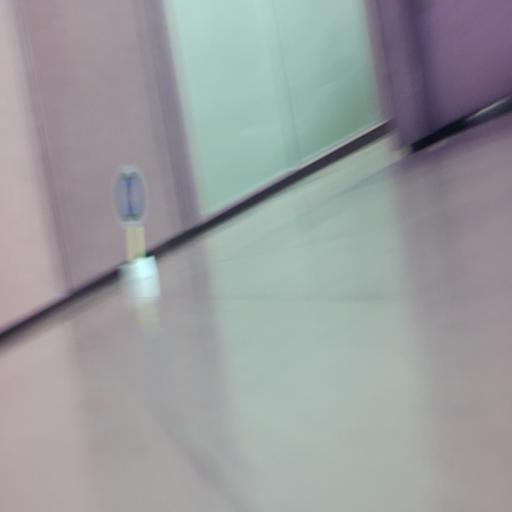target: (113, 165, 148, 228)
